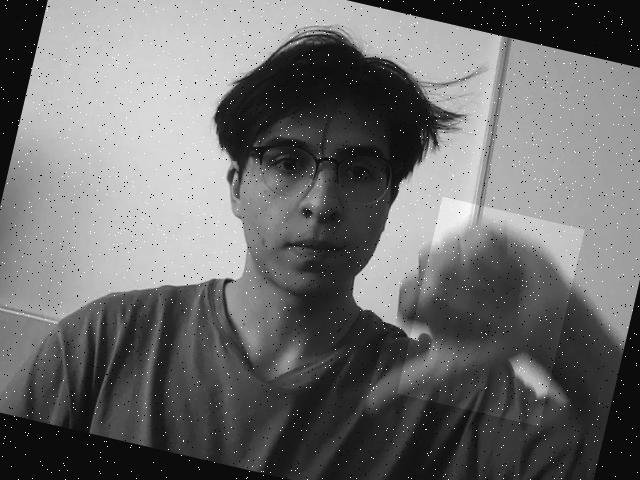bad: (396, 196, 584, 426)
